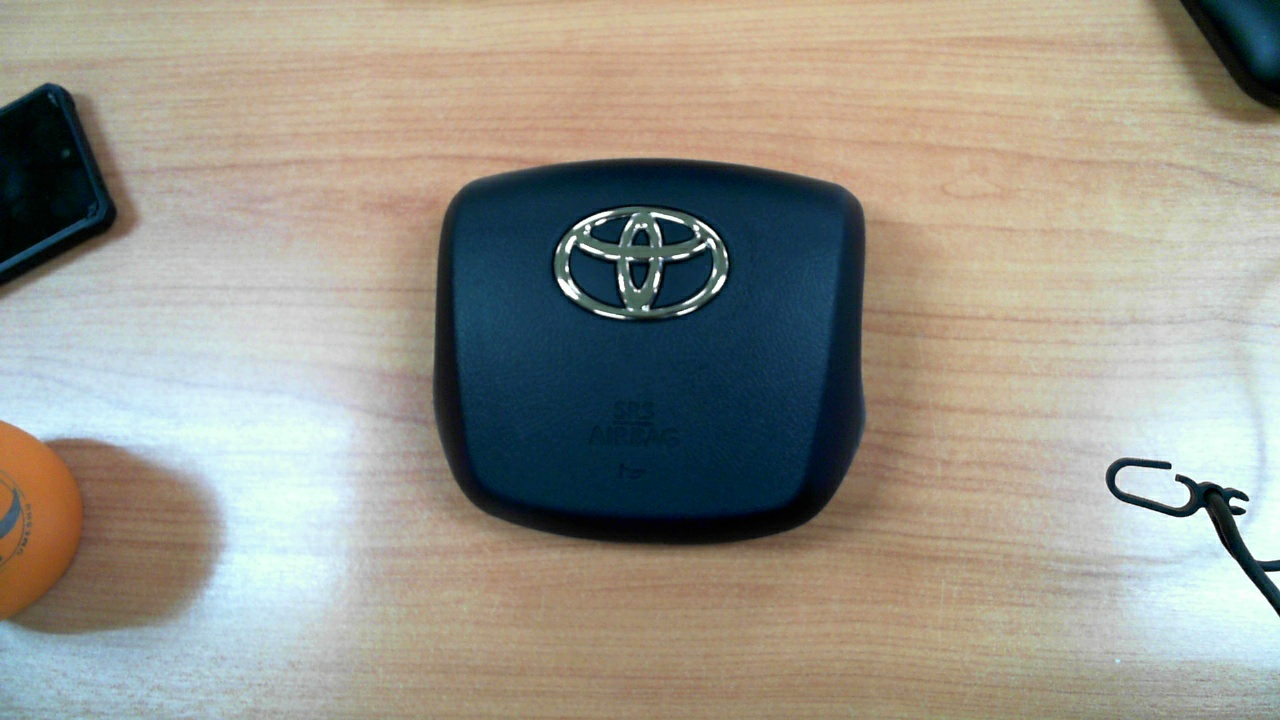Airbag: (402, 128, 896, 575)
